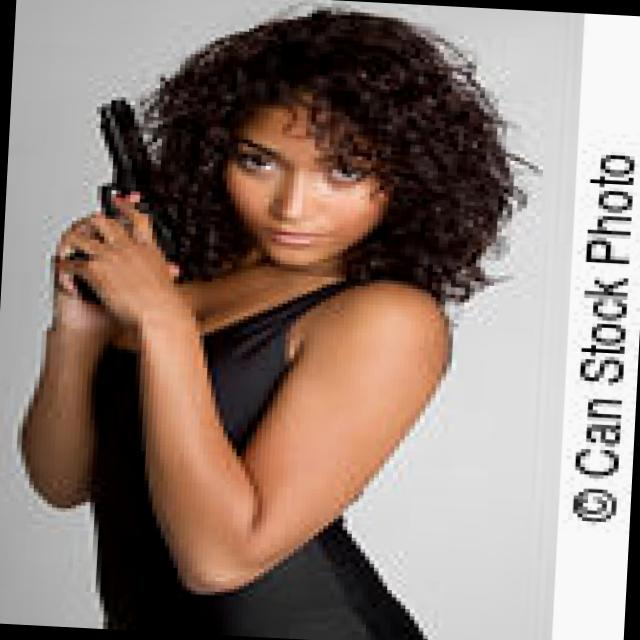handgun: (53, 90, 174, 312)
